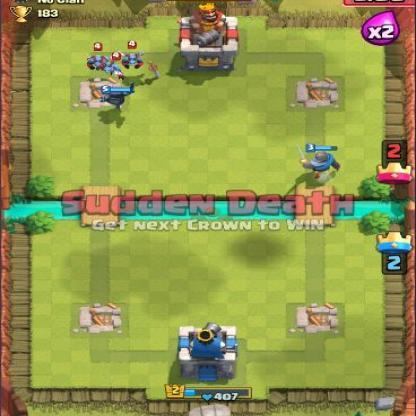ally_knight: (295, 142, 343, 180)
ally_mini_pekka: (97, 80, 138, 111)
enemy_minion: (117, 39, 146, 72), (97, 51, 128, 81), (86, 41, 113, 73)
